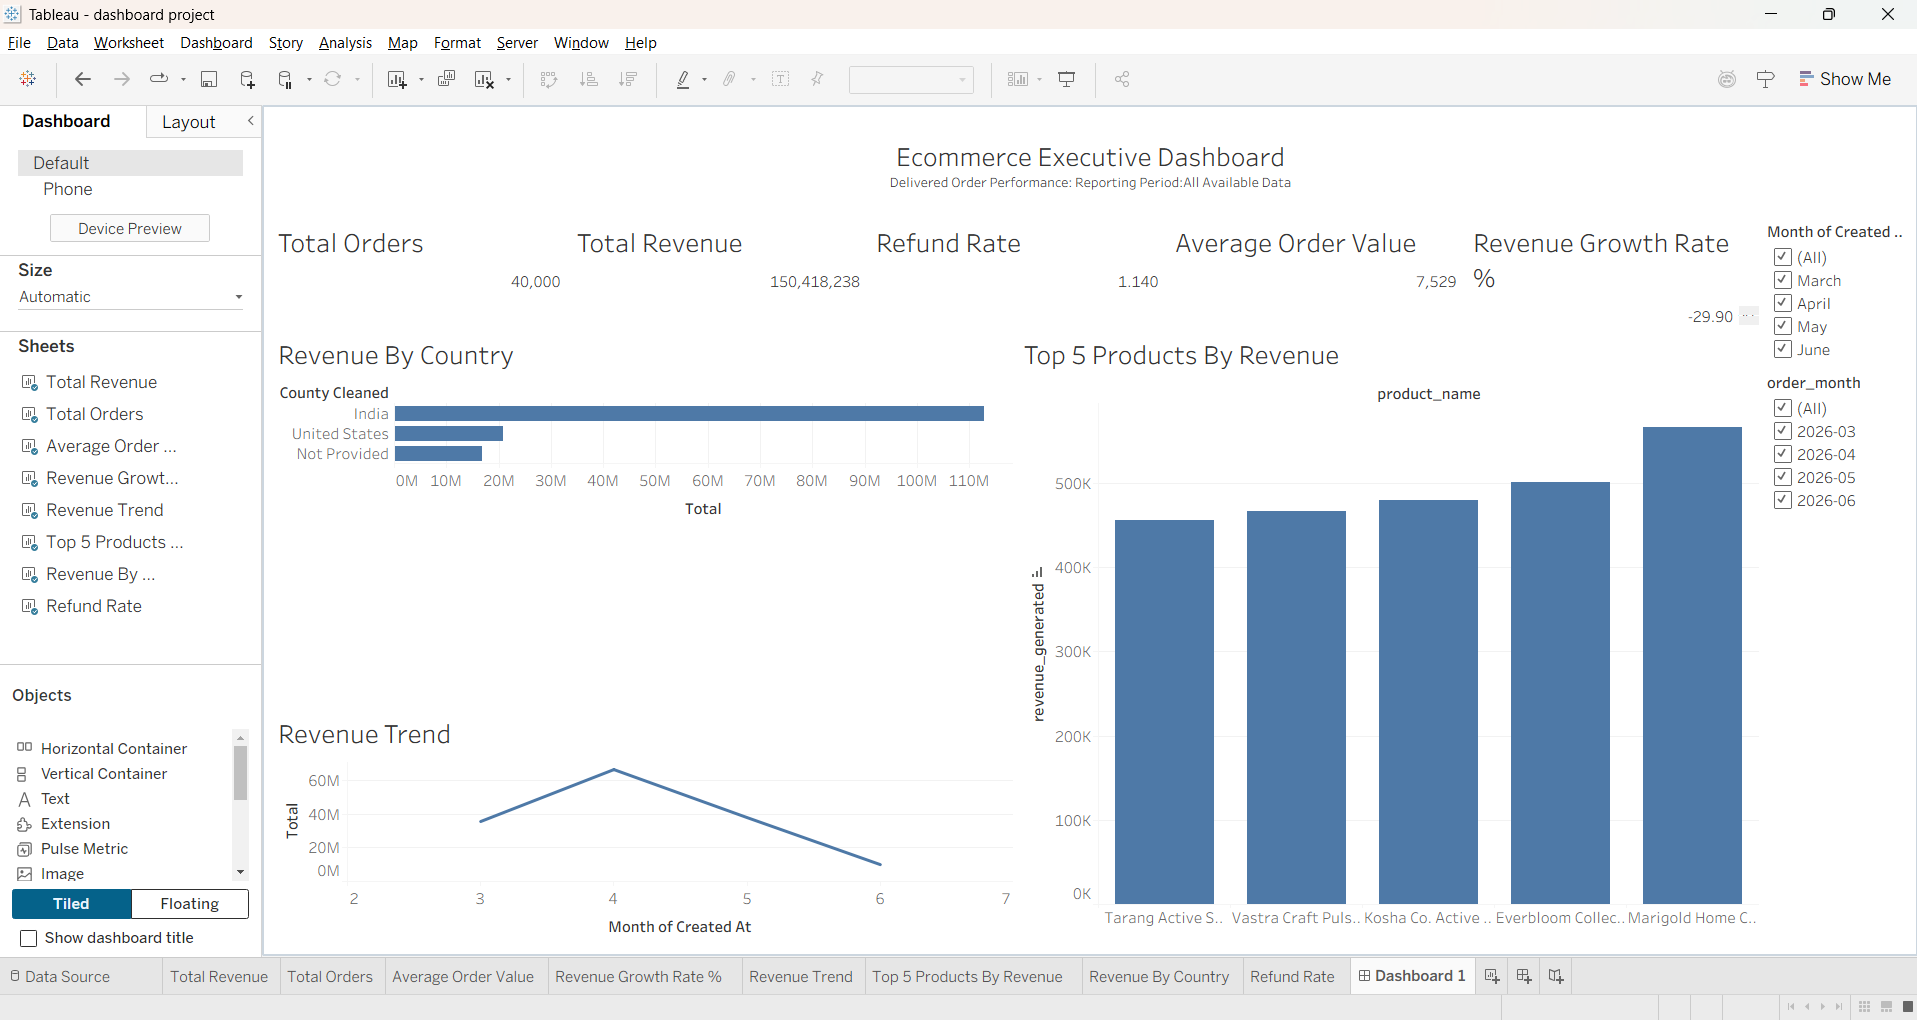

The dashboard page shown, as its layout file describes it:
{"tool":"tableau","page":{"name":"Ecommerce Executive Dashboard","canvas":[1000,1000],"units":"permille","ordinal":0},"visuals":[{"type":"title","box":[6.8,11.9,986.4,125.4]},{"type":"worksheet","title":"Total Revenue","mark":"Automatic","box":[6.8,137.3,169.9,114.9]},{"type":"worksheet","title":"Total Orders","mark":"Automatic","box":[176.7,137.3,169.1,114.9]},{"type":"worksheet","title":"Average Order Value","mark":"Automatic","box":[345.8,137.3,169.1,114.9]},{"type":"worksheet","title":"Refund Rate ","mark":"Automatic","box":[514.9,137.3,169.1,114.9]},{"type":"worksheet","title":"Revenue Growth Rate ","mark":"Automatic","box":[683.9,137.3,169.1,114.9]},{"type":"filter","title":"Revenue By Country","param":"[federated.1llm6sq0i69syu15uj6xx1oiqp3i].[none:Calculation_1967912267108355:nk]","box":[853,137.3,140.2,191]},{"type":"worksheet","title":"Revenue By Country","mark":"Automatic","rows":["Calculation_1967912267108355"],"cols":["total"],"box":[6.8,252.7,444.7,332.1]},{"type":"worksheet","title":"Top 5 Products By Revenue ","mark":"Automatic","rows":["product_name"],"cols":["revenue_generated"],"box":[451.5,252.7,401.5,735.4]},{"type":"filter","title":"Revenue Growth Rate ","param":"[federated.1llm6sq0i69syu15uj6xx1oiqp3i].[none:order_month:nk]","box":[853,328.4,140.2,229.8]},{"type":"worksheet","title":"Revenue Trend","mark":"Automatic","rows":["total"],"cols":["created_at"],"box":[6.8,584.8,444.7,403.3]}]}

Visuals, with their boxes on the dashboard's canvas, which has no fixed pixel size, in thousandths of its width and height (x1, y1, x2, y2). These are canvas units, not pixel positions in the 1917x1020 screenshot, which may show the page scaled, cropped or inside an application window:
title: pyautogui.locateOnScreen(7, 12, 993, 137)
"Total Revenue" worksheet: pyautogui.locateOnScreen(7, 137, 177, 252)
"Total Orders" worksheet: pyautogui.locateOnScreen(177, 137, 346, 252)
"Average Order Value" worksheet: pyautogui.locateOnScreen(346, 137, 515, 252)
"Refund Rate " worksheet: pyautogui.locateOnScreen(515, 137, 684, 252)
"Revenue Growth Rate " worksheet: pyautogui.locateOnScreen(684, 137, 853, 252)
"Revenue By Country" filter: pyautogui.locateOnScreen(853, 137, 993, 328)
"Revenue By Country" worksheet: pyautogui.locateOnScreen(7, 253, 452, 585)
"Top 5 Products By Revenue " worksheet: pyautogui.locateOnScreen(452, 253, 853, 988)
"Revenue Growth Rate " filter: pyautogui.locateOnScreen(853, 328, 993, 558)
"Revenue Trend" worksheet: pyautogui.locateOnScreen(7, 585, 452, 988)
